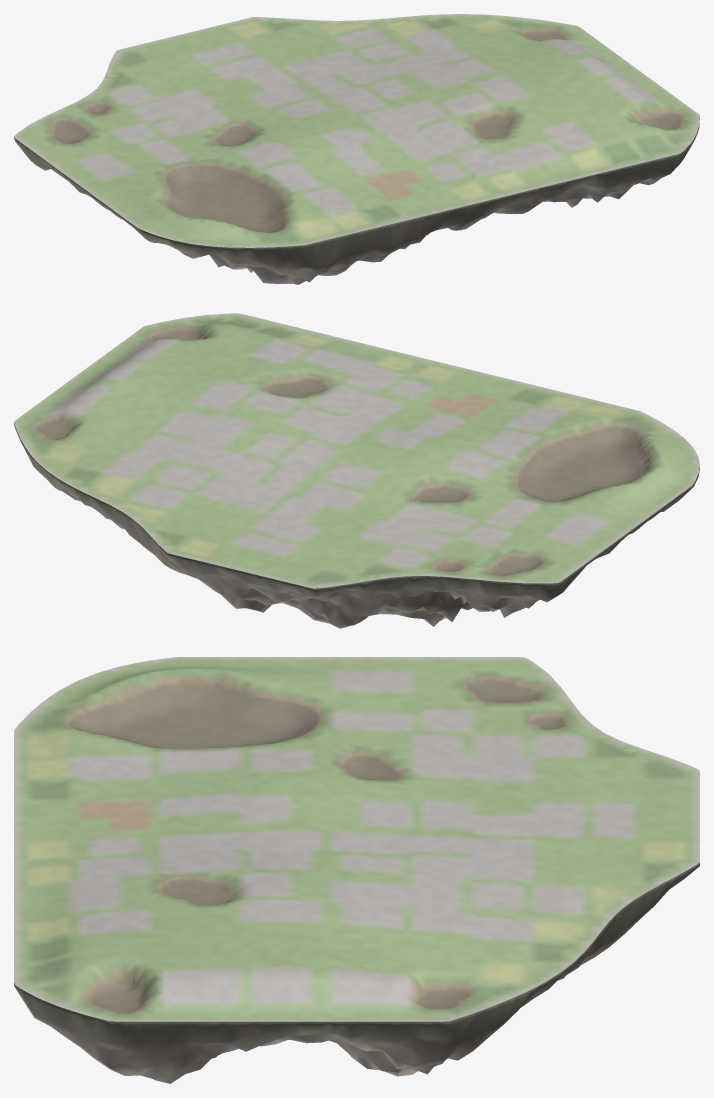
Rendered from SKY-021.rock.glb.
3 views of the same model, one above another, from view 1: azimuth 30°, elevation 25°; view 2: azimuth 150°, elevation 25°; view 3: azimuth 270°, elevation 25° (orthographic). The views are drawn at different scales.
Visible parts, largest first — view 1: deck-col, rock; view 2: deck-col, rock; view 3: deck-col, rock.
Boxes of the visible parts, bbox=[...] form: deck-col: bbox=[14, 14, 699, 247]; rock: bbox=[14, 118, 699, 284]; deck-col: bbox=[14, 313, 699, 588]; rock: bbox=[14, 422, 699, 628]; deck-col: bbox=[14, 657, 699, 1021]; rock: bbox=[14, 863, 699, 1083].
Bounding box in the file's own units: 342 × 88.48 × 272.
